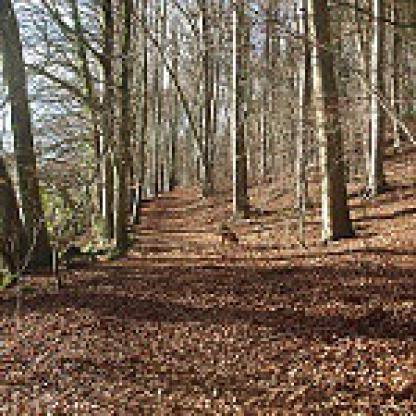trunk: (0, 0, 58, 280), (308, 0, 358, 244), (106, 0, 130, 258), (127, 0, 150, 222), (230, 0, 252, 222), (155, 0, 172, 194), (197, 0, 213, 200), (369, 0, 385, 194), (258, 0, 273, 181), (391, 0, 402, 150)
